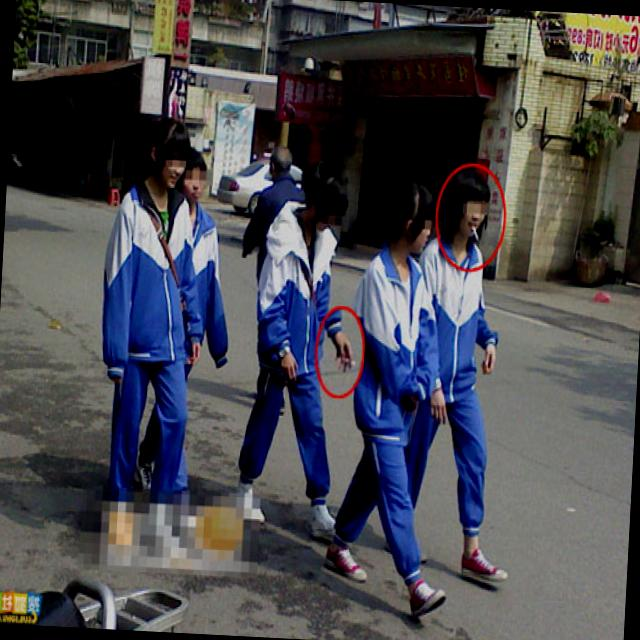cigarette: (336, 349, 358, 370), (467, 222, 480, 245)
